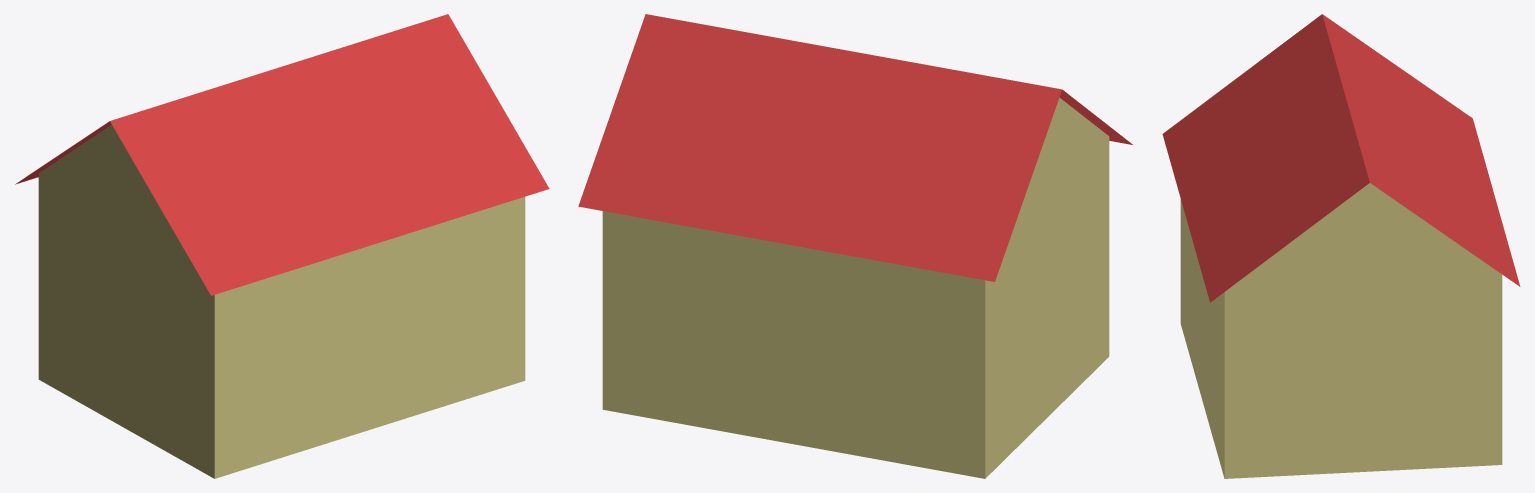
The picture shows the model from 3 angles, left to right: view 1: azimuth 30°, elevation 25°; view 2: azimuth 150°, elevation 25°; view 3: azimuth 270°, elevation 25°; orthographic projection. The views are drawn at different scales.
Size of the model in its own units: 13.28 by 10.89 by 9.93.
